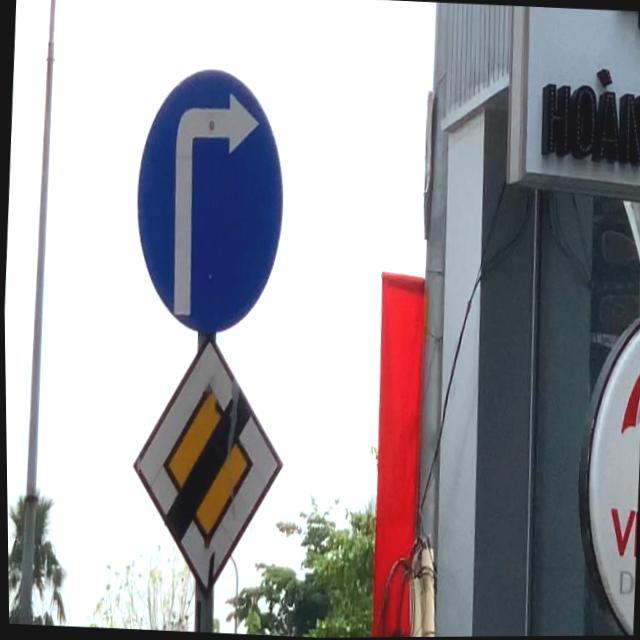Cac xe chi duoc re phai: (124, 59, 298, 342)
